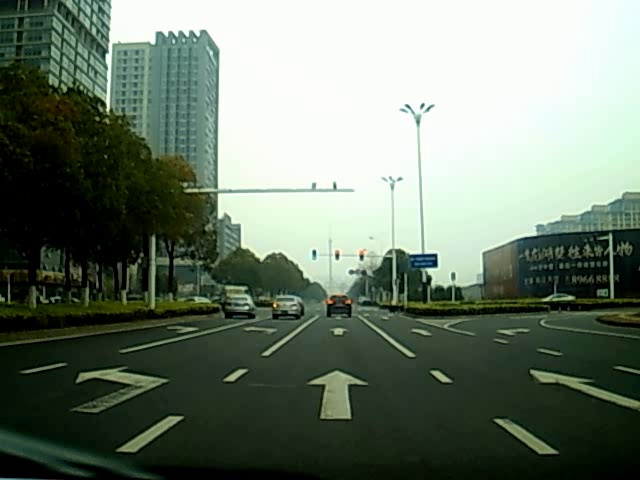Traffic_Light_stop: (357, 248, 364, 263), (335, 250, 340, 261)
